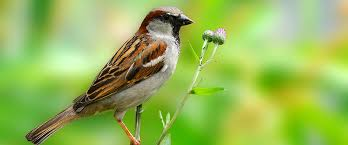hsparrow: (24, 2, 195, 145)
